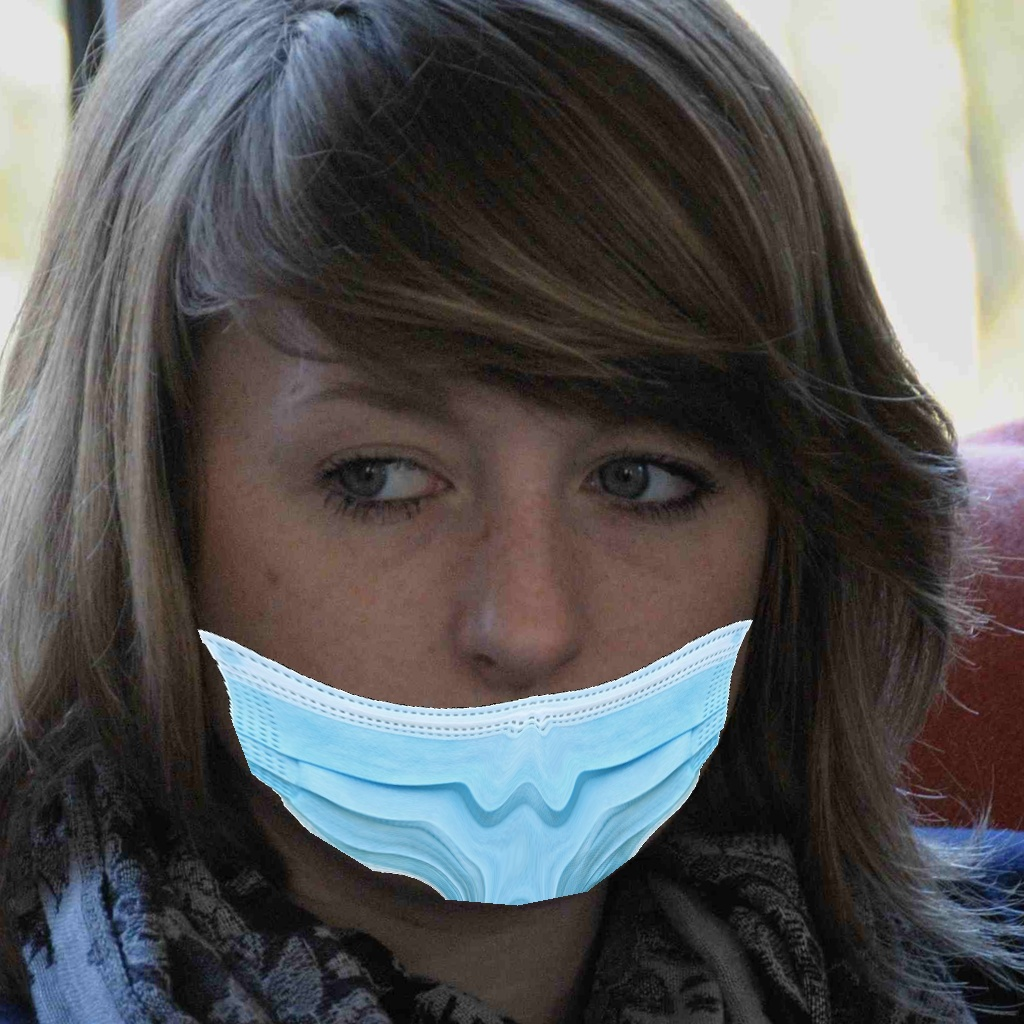mascarilla_mal_puesta: (187, 395, 802, 948)
